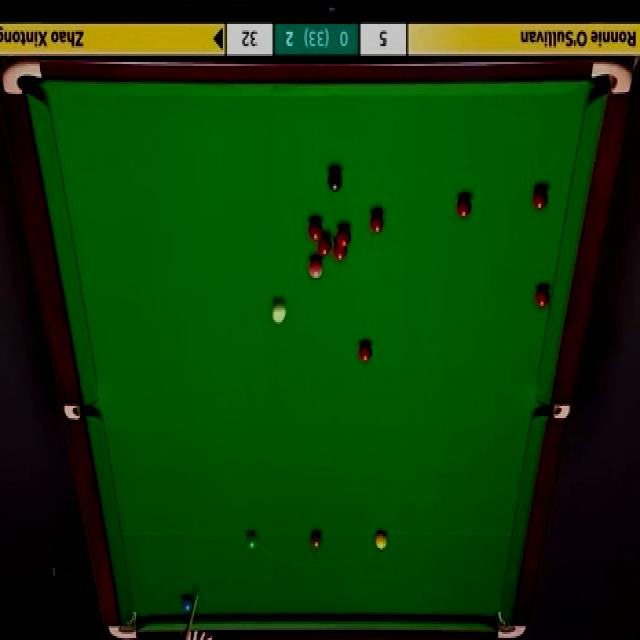black-ball: (326, 166, 343, 192)
blue-ball: (179, 593, 195, 618)
brown-ball: (309, 529, 323, 549)
green-ball: (244, 528, 258, 550)
pink-ball: (308, 255, 326, 279)
red-ball: (532, 184, 548, 212), (370, 209, 386, 236), (456, 195, 473, 219), (357, 340, 373, 364), (316, 235, 333, 257), (336, 224, 352, 247), (308, 220, 323, 244), (536, 285, 551, 309), (332, 240, 349, 261)
white-ball: (272, 300, 288, 327)
yellow-ball: (374, 530, 388, 550)
